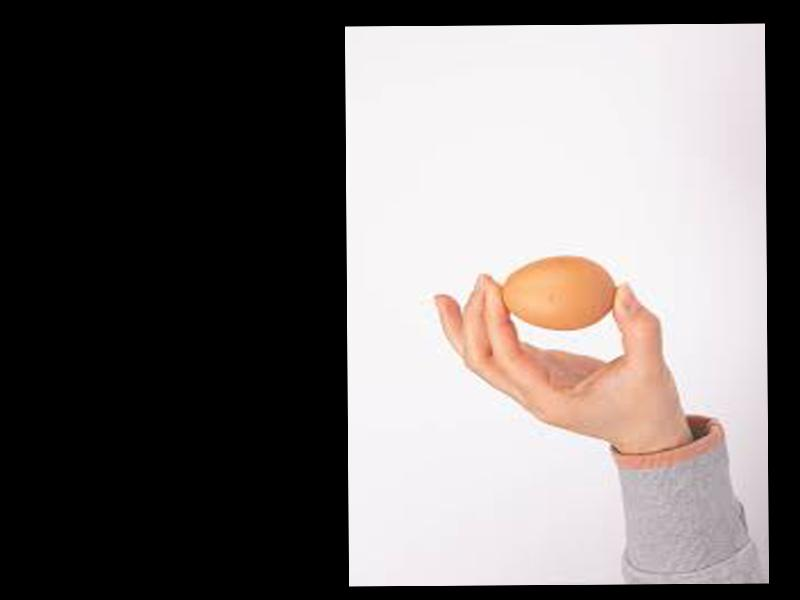Eggs: (499, 256, 613, 328)
